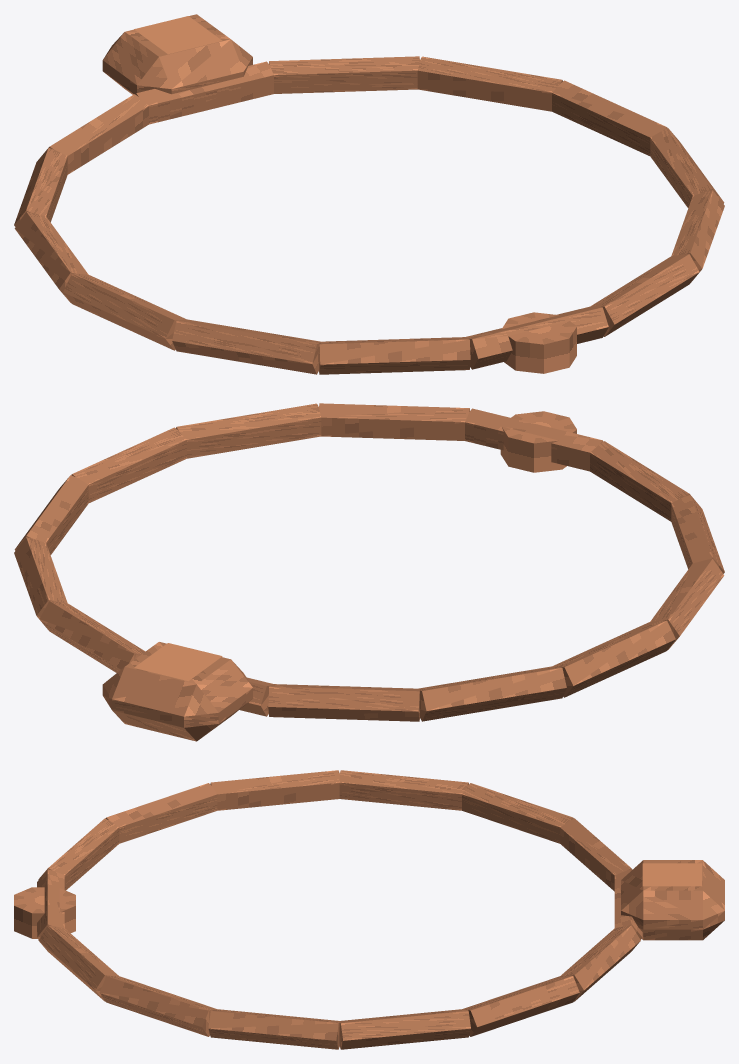
The model's file is copper_locket.glb.
The picture shows the model from 3 angles, top to bottom: view 1: azimuth 30°, elevation 25°; view 2: azimuth 150°, elevation 25°; view 3: azimuth 270°, elevation 25°; orthographic projection. The views are drawn at different scales.
Parts seen in each view (by area): view 1: block_hinged locket, block_necklace chain4, block_necklace chain5, block_necklace chain11, block_necklace chain12, block_necklace chain6, block_necklace chain13, block_necklace chain10, block_necklace chain2, block_necklace chain9, block_clasp, block_necklace chain3 (+5 smaller); view 2: block_hinged locket, block_necklace chain9, block_necklace chain8, block_necklace chain2, block_necklace chain1, block_necklace chain7, block_necklace chain0, block_necklace chain11, block_necklace chain4, block_necklace chain3, block_clasp, block_necklace chain6 (+5 smaller); view 3: block_hinged locket, block_necklace chain13, block_necklace chain0, block_necklace chain7, block_necklace chain6, block_necklace chain12, block_necklace chain1, block_necklace chain5, block_necklace chain8, block_necklace chain11, block_necklace chain2, block_necklace chain4 (+5 smaller).
Boxes of the visible parts, left/top/right/bottom form: block_hinged locket: left=102, top=14, right=252, bottom=94; block_necklace chain4: left=319, top=337, right=470, bottom=374; block_necklace chain5: left=172, top=319, right=320, bottom=374; block_necklace chain11: left=269, top=56, right=419, bottom=93; block_necklace chain12: left=417, top=56, right=562, bottom=111; block_necklace chain6: left=63, top=273, right=185, bottom=350; block_necklace chain13: left=552, top=80, right=667, bottom=155; block_necklace chain10: left=135, top=61, right=273, bottom=124; block_necklace chain2: left=590, top=254, right=699, bottom=336; block_necklace chain9: left=49, top=94, right=148, bottom=174; block_clasp: left=502, top=312, right=576, bottom=373; block_necklace chain3: left=465, top=306, right=608, bottom=369; block_hinged locket: left=102, top=642, right=252, bottom=741; block_necklace chain9: left=268, top=684, right=419, bottom=721; block_necklace chain8: left=418, top=666, right=566, bottom=721; block_necklace chain2: left=319, top=403, right=469, bottom=440; block_necklace chain1: left=176, top=403, right=321, bottom=458; block_necklace chain7: left=553, top=620, right=675, bottom=697; block_necklace chain0: left=71, top=427, right=186, bottom=502; block_necklace chain11: left=39, top=601, right=145, bottom=672; block_necklace chain4: left=590, top=441, right=689, bottom=521; block_necklace chain3: left=465, top=408, right=603, bottom=471; block_clasp: left=500, top=411, right=576, bottom=472; block_necklace chain6: left=650, top=558, right=724, bottom=649; block_hinged locket: left=621, top=860, right=724, bottom=940; block_necklace chain13: left=339, top=1009, right=470, bottom=1049; block_necklace chain0: left=208, top=1009, right=339, bottom=1049; block_necklace chain7: left=339, top=770, right=468, bottom=810; block_necklace chain6: left=210, top=770, right=339, bottom=810; block_necklace chain12: left=462, top=975, right=579, bottom=1036; block_necklace chain1: left=99, top=975, right=216, bottom=1036; block_necklace chain5: left=105, top=783, right=217, bottom=843; block_necklace chain8: left=462, top=783, right=573, bottom=843; block_necklace chain11: left=561, top=925, right=640, bottom=1001; block_necklace chain2: left=38, top=925, right=118, bottom=1001; block_necklace chain4: left=38, top=818, right=119, bottom=890.
Size of the model in its own units: 0.0648 by 0.00588 by 0.0743.
1 material, 1 textured.
